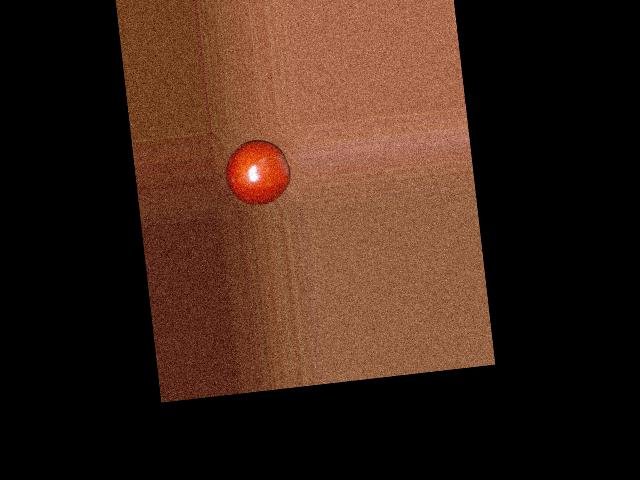tomato: (221, 137, 293, 209)
